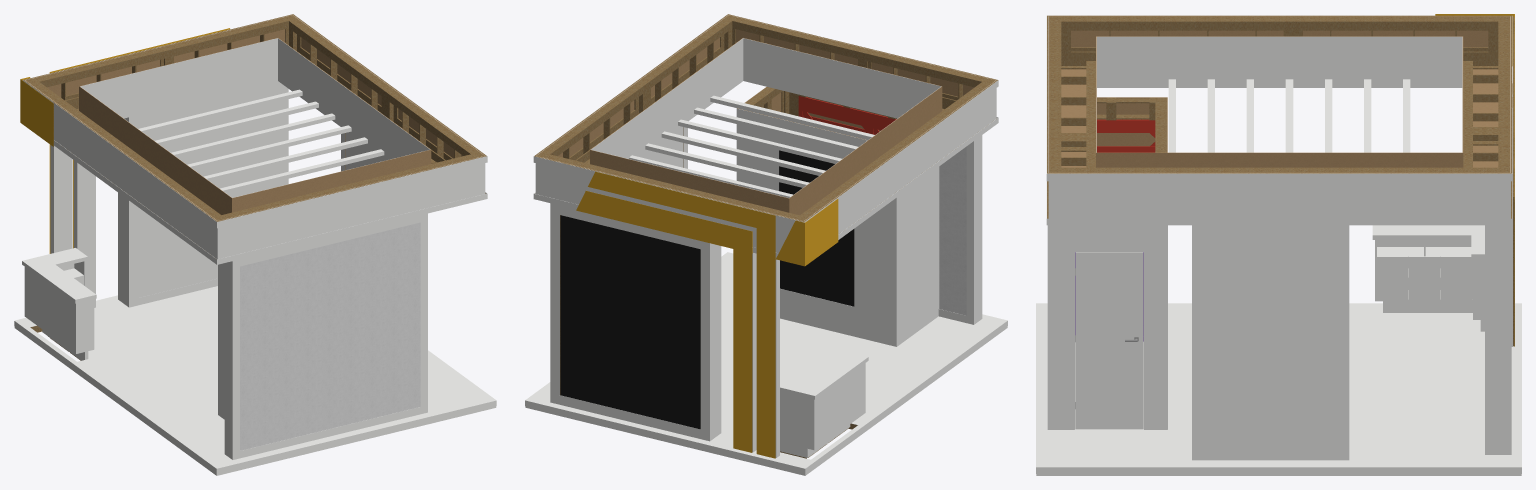
3 views of the same model, side by side, from view 1: azimuth 30°, elevation 25°; view 2: azimuth 150°, elevation 25°; view 3: azimuth 270°, elevation 25° (orthographic). The views are drawn at different scales.
Parts seen in each view (by area): view 1: Баннер — цельное полотно 2750х2700х0,5 мм, Баннер 2250×2700×0,1 мм, Настил полистирол — лист 1, Body1 (×13), Передняя сторона — 2812х580х3 мм, Настил полистирол — лист 2, Полистирол 3 — наружное полотно 5, Полистирол 3 — наружное полотно 4, Полистирол 3 — 2433 x 580 x 3 мм (1), Полистирол 3 — наружное полотно 3, РС-Д05 — Наружная облицовка 1, Настил полистирол — лист 5 (+37 smaller); view 2: Лицевая поверхность модуля (×20), Задняя сторона — 2812х580х3 мм, Полистирол 3 — левая панель 1131х2700 мм, Полистирол 3 мм — бок 1069х2700 мм, Настил полистирол — лист 2, Body2 (×7), Настил полистирол — лист 1, Видимая область экрана, Баннер 491х2700х0,5 мм — правое крыло, Полистирол 3 — 2433 x 580 x 3 мм (1), Жёлтая накладка полистирол 268×2700×3 мм — 1, Жёлтая накладка полистирол 268×2700×3 мм — 2 (+44 smaller); view 3: Сторона Б — баннер 1600×2700×0,1 мм, Настил полистирол — лист 3, Полистирол глянцевый 1228х2700х3 мм — стена с дверью, Полистирол белый глянцевый 700х2000х3 мм — дверь, Полистирол 3 — 2433 x 580 x 3 мм, Настил полистирол — лист 1, Полистирол 3 — наружное полотно 7, Полистирол 3 — наружное полотно 6, Полистирол 3 — 1308 x 580 x 3 мм (1), Полистирол — правый торец 2700×271,1×2 мм, Настил полистирол — лист 5, Верхние продольные полосы ДСП 16 (1) (×2) (+29 smaller).
Boxes of the visible parts, x1,y1,x2,y2 form: Баннер — цельное полотно 2750х2700х0,5 мм: (240,222,420,450); Баннер 2250×2700×0,1 мм: (136,81,281,298); Настил полистирол — лист 1: (14,295,217,406); Body1 (×13): (115,90,384,473); Передняя сторона — 2812х580х3 мм: (80,38,277,118); Настил полистирол — лист 2: (132,386,350,468); Полистирол 3 — наружное полотно 5: (351,156,485,226); Полистирол 3 — наружное полотно 4: (217,188,351,258); Полистирол 3 — 2433 x 580 x 3 мм (1): (331,77,429,160); Полистирол 3 — наружное полотно 3: (121,151,217,259); РС-Д05 — Наружная облицовка 1: (24,267,75,353); Настил полистирол — лист 5: (346,365,496,435); Лицевая поверхность модуля (×20): (560,215,700,429); Задняя сторона — 2812х580х3 мм: (743,38,941,118); Полистирол 3 — левая панель 1131х2700 мм: (816,128,896,346); Полистирол 3 мм — бок 1069х2700 мм: (896,167,939,346); Настил полистирол — лист 2: (790,314,1007,382); Body2 (×7): (645,96,906,473); Настил полистирол — лист 1: (671,349,923,468); Видимая область экрана: (779,150,854,306); Баннер 491х2700х0,5 мм — правое крыло: (939,146,966,315); Полистирол 3 — 2433 x 580 x 3 мм (1): (644,38,743,153); Жёлтая накладка полистирол 268×2700×3 мм — 1: (756,255,775,458); Жёлтая накладка полистирол 268×2700×3 мм — 2: (733,249,752,452); Сторона Б — баннер 1600×2700×0,1 мм: (1201,230,1339,451); Настил полистирол — лист 3: (1336,381,1521,467); Полистирол глянцевый 1228х2700х3 мм — стена с дверью: (1047,225,1167,429); Полистирол белый глянцевый 700х2000х3 мм — дверь: (1075,252,1143,429); Полистирол 3 — 2433 x 580 x 3 мм: (1097,36,1334,87); Настил полистирол — лист 1: (1349,303,1521,381); Полистирол 3 — наружное полотно 7: (1279,181,1510,218); Полистирол 3 — наружное полотно 6: (1049,181,1279,218); Полистирол 3 — 1308 x 580 x 3 мм (1): (1334,36,1462,87); Полистирол — правый торец 2700×271,1×2 мм: (1485,225,1511,454); Настил полистирол — лист 5: (1036,381,1150,467); Верхние продольные полосы ДСП 16 (1) (×2): (1061,21,1498,30).
Bounding box in the file's own units: 3.99 × 3.39 × 4.97.
Materials: 18 (3 with a texture image).
